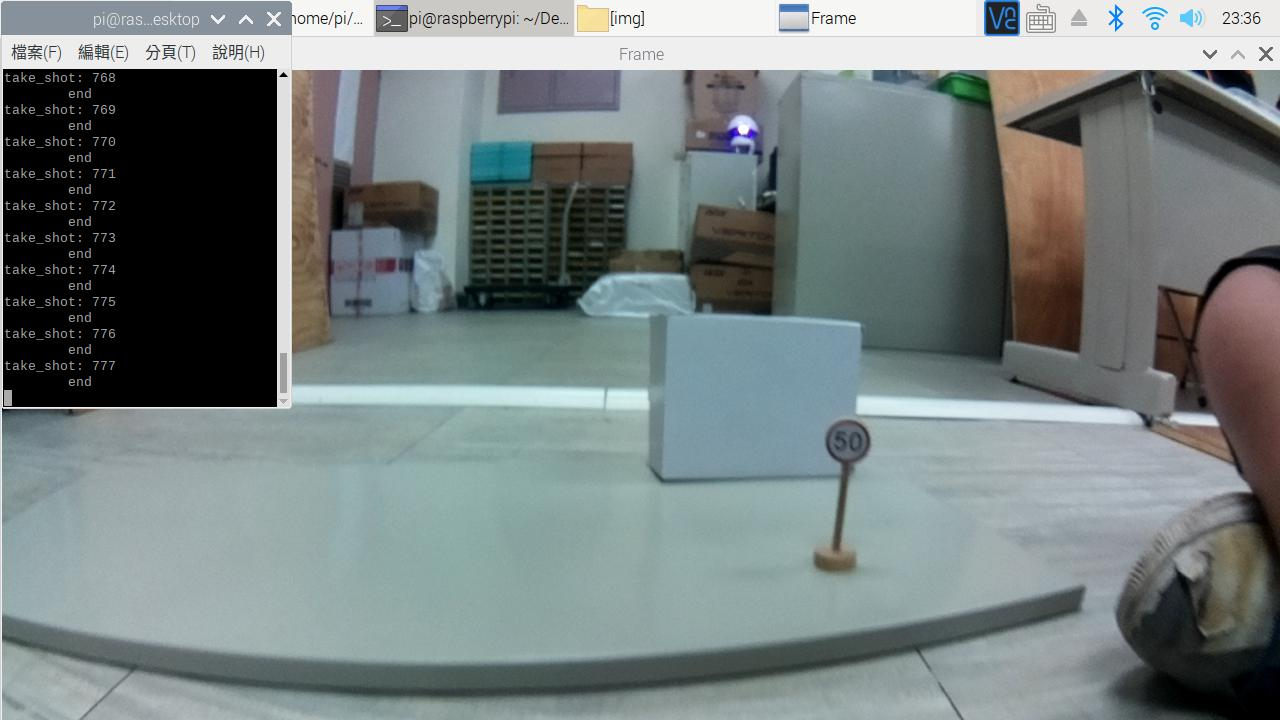Speed50: (811, 400, 886, 469)
